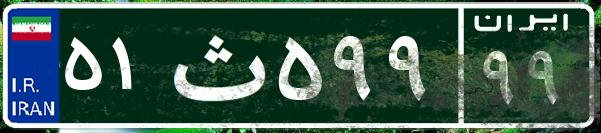1: (110, 28, 158, 105)
5: (273, 28, 330, 110), (57, 26, 110, 107)
9: (385, 28, 445, 110), (330, 28, 385, 110), (475, 38, 525, 113), (525, 38, 570, 115)
ث: (158, 15, 273, 115)
